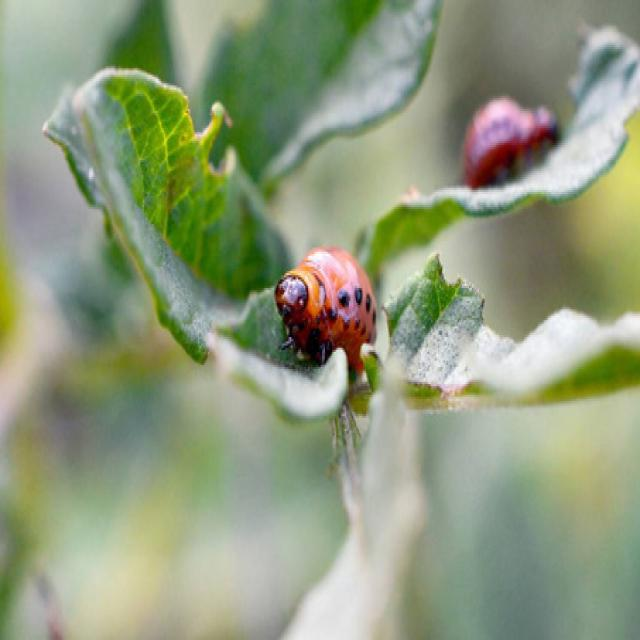ShuCaiHuaBanChong-Larva-: (269, 224, 384, 390)
